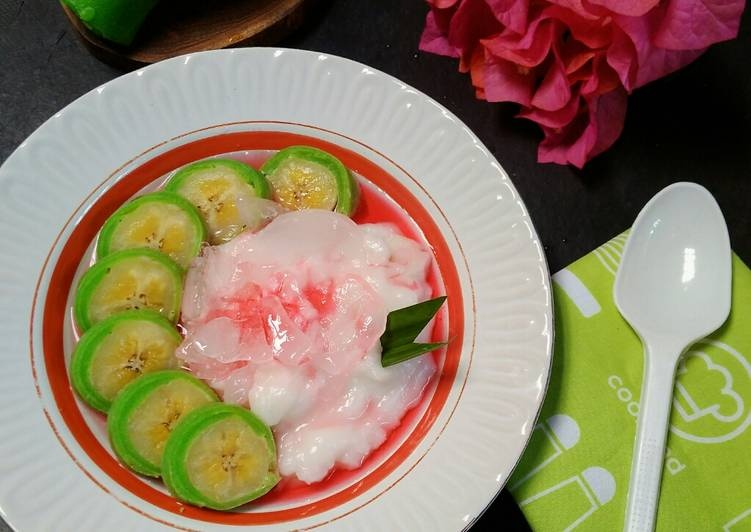pisang_ijo: (172, 397, 281, 506)
